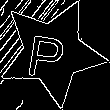P_N: (30, 24, 74, 80)
